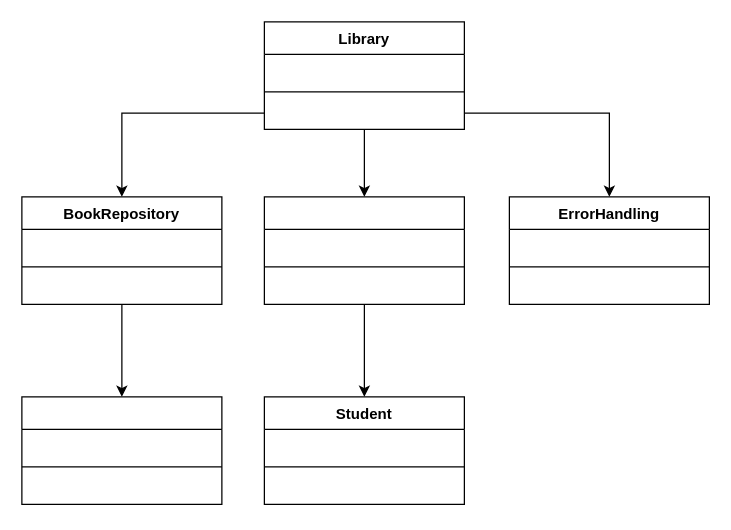
This 731x530 diagram has some shape labels left out. The shapes that lost their labels are listed below. From the top down, each one's box as (x1, y1, x2, y2) in pixels, then its label:
(263, 196, 464, 304): StudentRepository
(21, 396, 222, 504): Book
